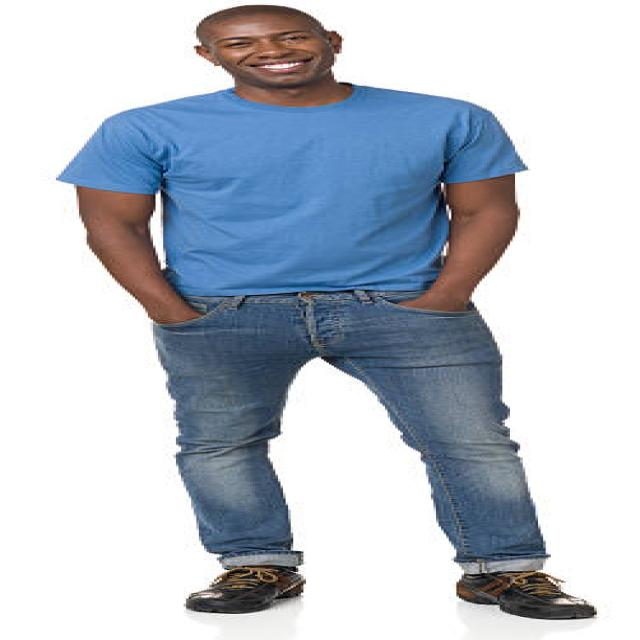Edited images: (48, 2, 617, 624)
